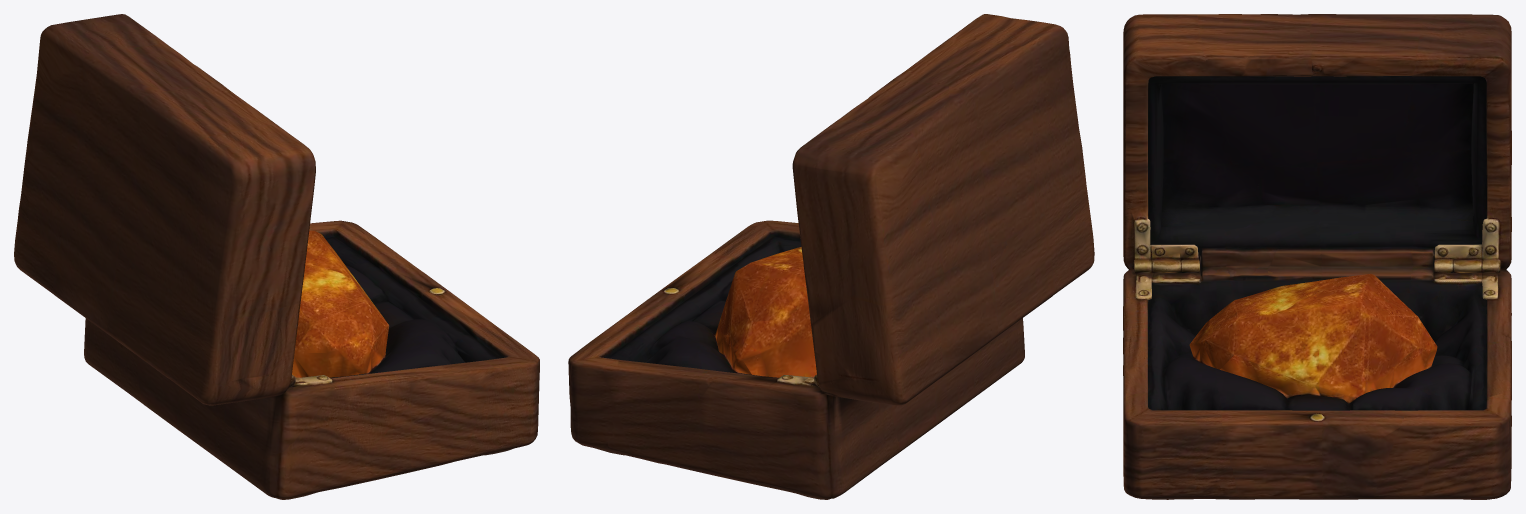
Rendered from core-crystal-case.glb.
The picture shows the model from 3 angles, left to right: view 1: azimuth 30°, elevation 25°; view 2: azimuth 150°, elevation 25°; view 3: azimuth 270°, elevation 25°; orthographic projection. The views are drawn at different scales.
Visible parts, largest first — view 1: tripo_node_8e60444f-43a6-4cde-aecf-6a47e1420eb3; view 2: tripo_node_8e60444f-43a6-4cde-aecf-6a47e1420eb3; view 3: tripo_node_8e60444f-43a6-4cde-aecf-6a47e1420eb3.
Boxes of the visible parts, <box> form: tripo_node_8e60444f-43a6-4cde-aecf-6a47e1420eb3: <box>14,14,539,499</box>; tripo_node_8e60444f-43a6-4cde-aecf-6a47e1420eb3: <box>568,14,1094,499</box>; tripo_node_8e60444f-43a6-4cde-aecf-6a47e1420eb3: <box>1123,14,1511,499</box>.
Bounding box in the file's own units: 0.9861 × 0.9997 × 0.9994.
Materials: 1 (1 with a texture image).
